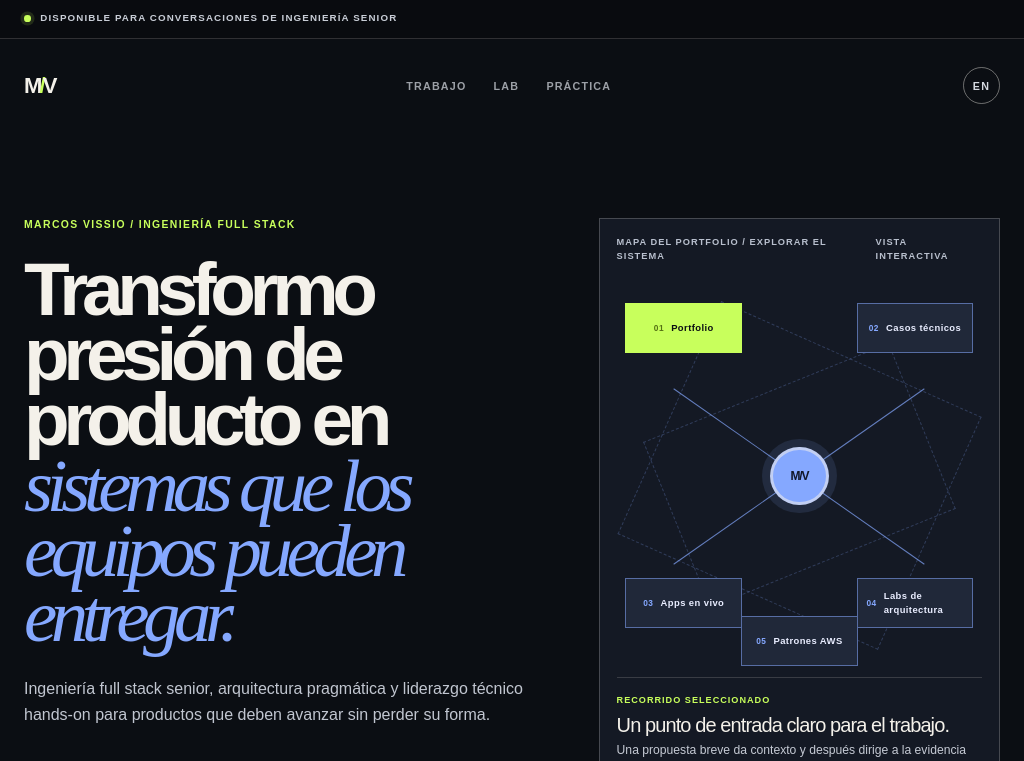
Test: Spanish home page › renders the portfolio map in Spanish
Click the button "05 Patrones AWS".
click(799, 641)  # box [741,616,858,666]
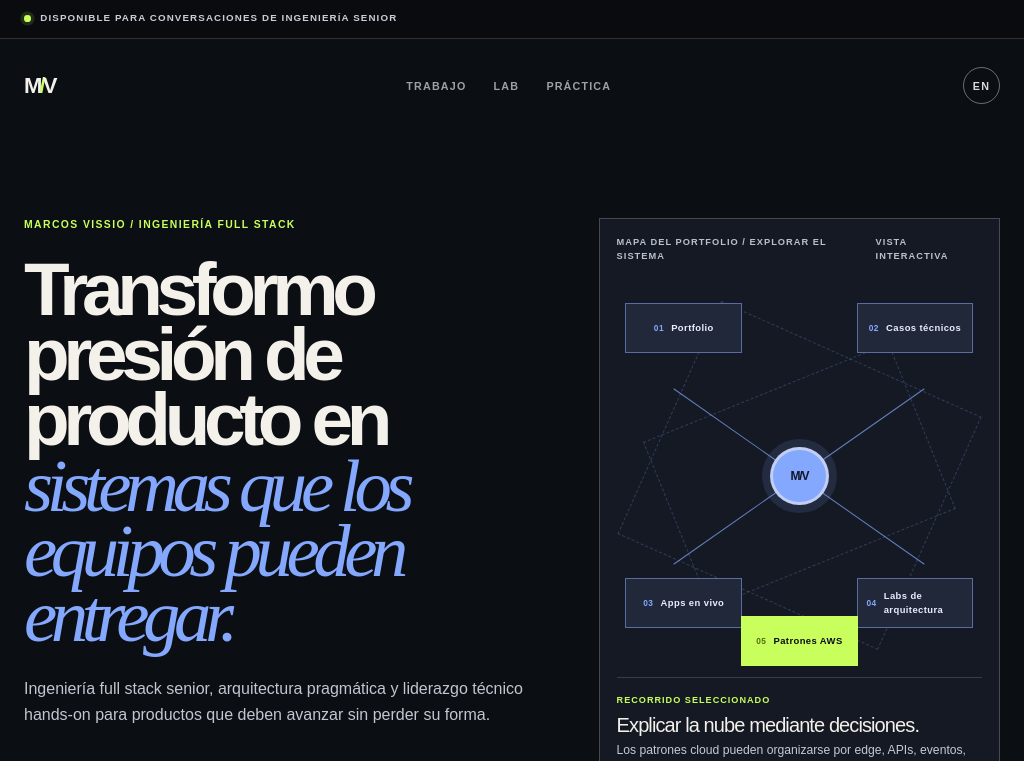
Result: the heading "Explicar la nube mediante decisiones." is shown at [617,714,919,736]
